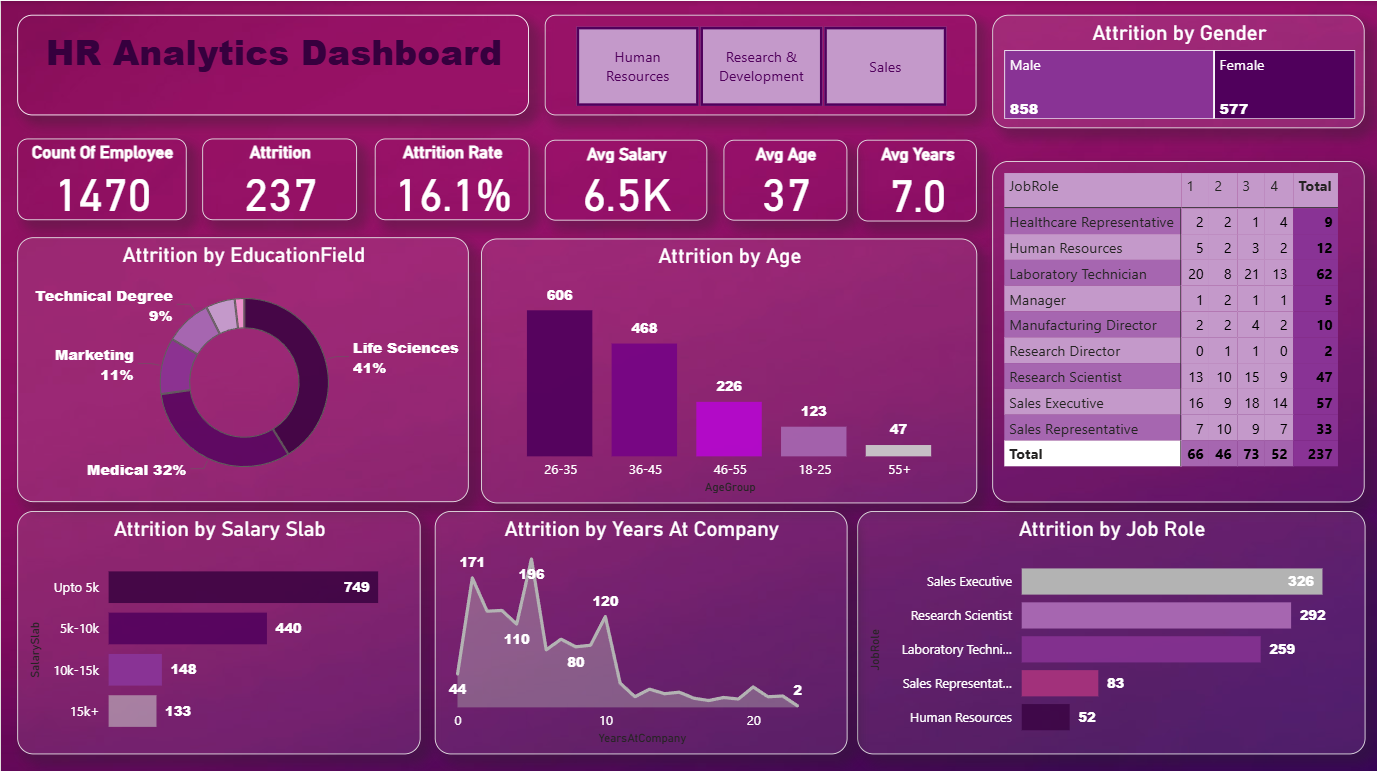

This screenshot's page, from the dashboard's own definition file:
{"tool":"powerbi","page":{"name":"Page 1","canvas":[1280,720],"ordinal":0},"visuals":[{"type":"card","title":"Count Of Employee","fields":{"Values":["CountNonNull(HR_Analytics.EmpID)"]},"box":[15,127.5,157.5,76.2],"z":0},{"type":"card","title":"Attrition","fields":{"Values":["Sum(HR_Analytics.AttritionCount)"]},"box":[187.5,127.5,143.8,76.2],"z":1000},{"type":"card","title":"Attrition Rate","fields":{"Values":["HR_Analytics.AttritionRate"]},"box":[347.5,127.5,143.8,76.2],"z":2000},{"type":"card","title":"Avg Age","fields":{"Values":["Avg(HR_Analytics.Age)"]},"box":[672.5,128.8,115,75],"z":3000},{"type":"card","title":"Avg Salary","fields":{"Values":["Avg(HR_Analytics.MonthlyIncome)"]},"box":[506.2,128.8,151.2,75],"z":4000},{"type":"card","title":"Avg Years","fields":{"Values":["Avg(HR_Analytics.YearsAtCompany)"]},"box":[796.2,128.8,111.2,76.2],"z":5000},{"type":"donutChart","title":"Attrition by EducationField","fields":{"Category":["HR_Analytics.EducationField"],"Y":["CountNonNull(HR_Analytics.Attrition)"]},"box":[15,220,420,246.2],"z":6000},{"type":"columnChart","title":"Attrition by Age","fields":{"Category":["HR_Analytics.AgeGroup"],"Y":["CountNonNull(HR_Analytics.Attrition)"]},"box":[446.2,221.2,461.2,246.2],"z":7000},{"type":"pivotTable","fields":{"Rows":["HR_Analytics.JobRole"],"Columns":["HR_Analytics.JobSatisfaction"],"Values":["Sum(HR_Analytics.AttritionCount)"]},"box":[922.1,148.8,346.5,317.4],"z":8000},{"type":"clusteredBarChart","title":"Attrition by Salary Slab","fields":{"Category":["HR_Analytics.SalarySlab"],"Y":["CountNonNull(HR_Analytics.Attrition)"]},"box":[15,475,375,226.2],"z":9000},{"type":"clusteredBarChart","title":"Attrition by Job Role","fields":{"Category":["HR_Analytics.JobRole"],"Y":["CountNonNull(HR_Analytics.Attrition)"]},"box":[796.2,475,472.5,226.2],"z":10000},{"type":"areaChart","title":"Attrition by Years At Company","fields":{"Category":["HR_Analytics.YearsAtCompany"],"Y":["CountNonNull(HR_Analytics.Attrition)"]},"box":[403.8,475,383.8,226.2],"z":11000},{"type":"treemap","title":"Attrition by Gender","fields":{"Values":["CountNonNull(HR_Analytics.Attrition)"],"Group":["HR_Analytics.Gender"]},"box":[922.1,12.8,346.5,105.8],"z":12000},{"type":"slicer","fields":{"Values":["HR_Analytics.Department"]},"box":[506.2,12.5,401.2,93.8],"z":13000},{"type":"textbox","box":[15,12.5,476.2,93.8],"z":14000}]}

Visuals, with their boxes in screenshot pixels (x1, y1, x2, y2), scaled from the page's 1280x720 canvas onto the 1377x771 screenshot:
"Count Of Employee" card: 16, 137, 186, 218
"Attrition" card: 202, 137, 356, 218
"Attrition Rate" card: 374, 137, 529, 218
"Avg Age" card: 723, 138, 847, 218
"Avg Salary" card: 545, 138, 707, 218
"Avg Years" card: 857, 138, 976, 220
"Attrition by EducationField" donutChart: 16, 236, 468, 499
"Attrition by Age" columnChart: 480, 237, 976, 501
pivotTable - HR_Analytics.JobRole x HR_Analytics.JobSatisfaction: 992, 159, 1365, 499
"Attrition by Salary Slab" clusteredBarChart: 16, 509, 420, 751
"Attrition by Job Role" clusteredBarChart: 857, 509, 1365, 751
"Attrition by Years At Company" areaChart: 434, 509, 847, 751
"Attrition by Gender" treemap: 992, 14, 1365, 127
slicer - HR_Analytics.Department: 545, 13, 976, 114
textbox: 16, 13, 528, 114
